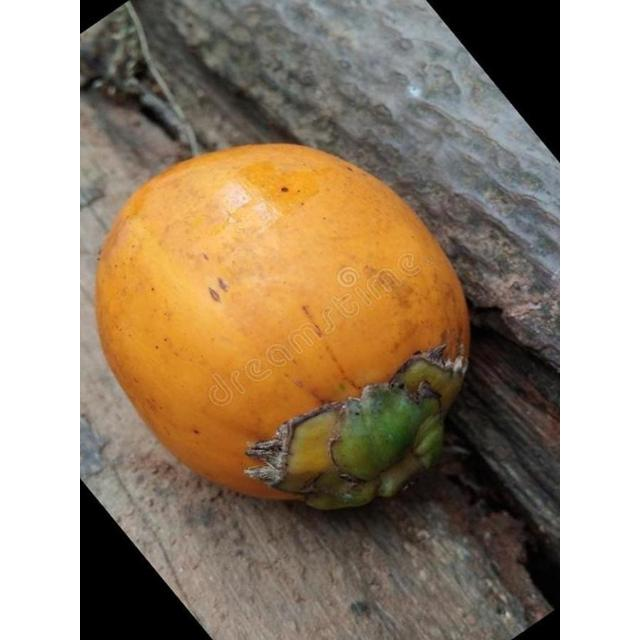good: (95, 142, 472, 514)
